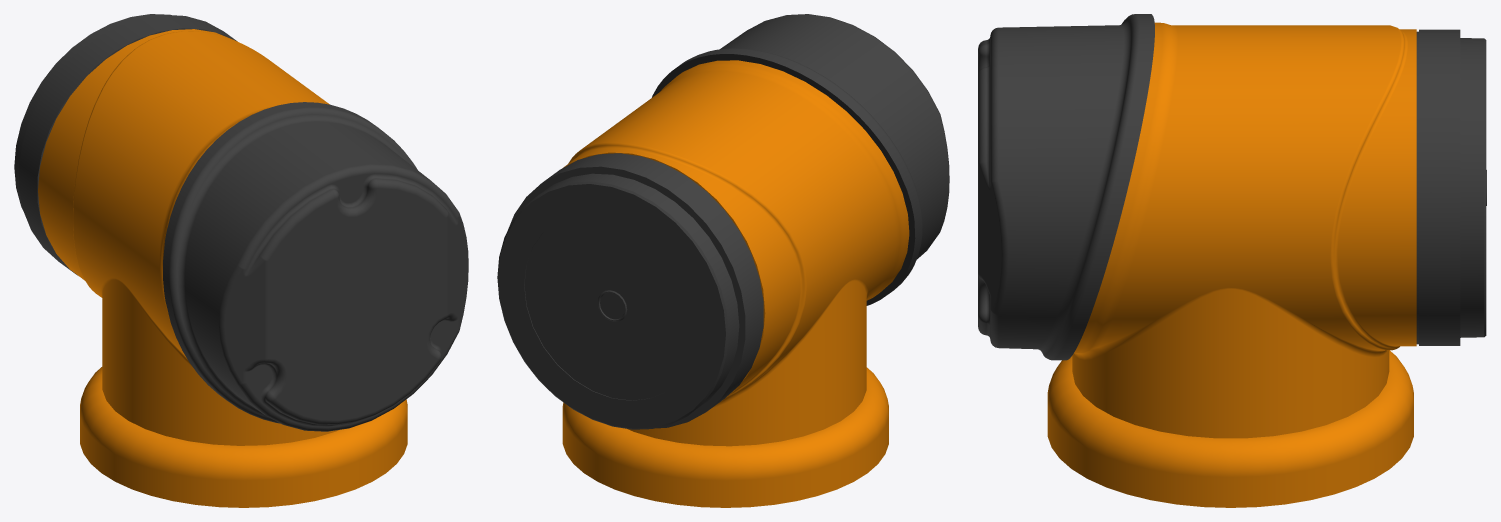
3 views of the same model, side by side, from view 1: azimuth 30°, elevation 25°; view 2: azimuth 150°, elevation 25°; view 3: azimuth 270°, elevation 25° (orthographic). The views are drawn at different scales.
Visible parts, largest first — view 1: NONE, FBXASC195FBXASC137FBXASC194FBXASC190FBXASC194FBXASC179FBXASC; view 2: NONE, FBXASC195FBXASC137FBXASC194FBXASC190FBXASC194FBXASC179FBXASC; view 3: NONE, FBXASC195FBXASC137FBXASC194FBXASC190FBXASC194FBXASC179FBXASC.
Boxes of the visible parts, left/top/right/bottom form: NONE: left=14, top=14, right=468, bottom=445; FBXASC195FBXASC137FBXASC194FBXASC190FBXASC194FBXASC179FBXASC: left=80, top=367, right=407, bottom=507; NONE: left=497, top=14, right=949, bottom=446; FBXASC195FBXASC137FBXASC194FBXASC190FBXASC194FBXASC179FBXASC: left=562, top=367, right=888, bottom=507; NONE: left=978, top=14, right=1486, bottom=438; FBXASC195FBXASC137FBXASC194FBXASC190FBXASC194FBXASC179FBXASC: left=1047, top=350, right=1413, bottom=507.
Size of the model in its own units: 0.087 by 0.1204 by 0.1045.
